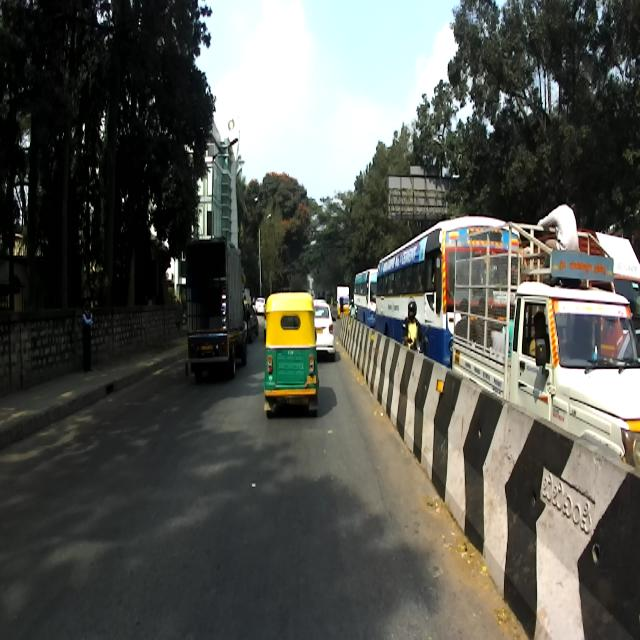auto ahead at: (260, 294, 318, 413)
truck ahead at: (178, 232, 252, 383)
